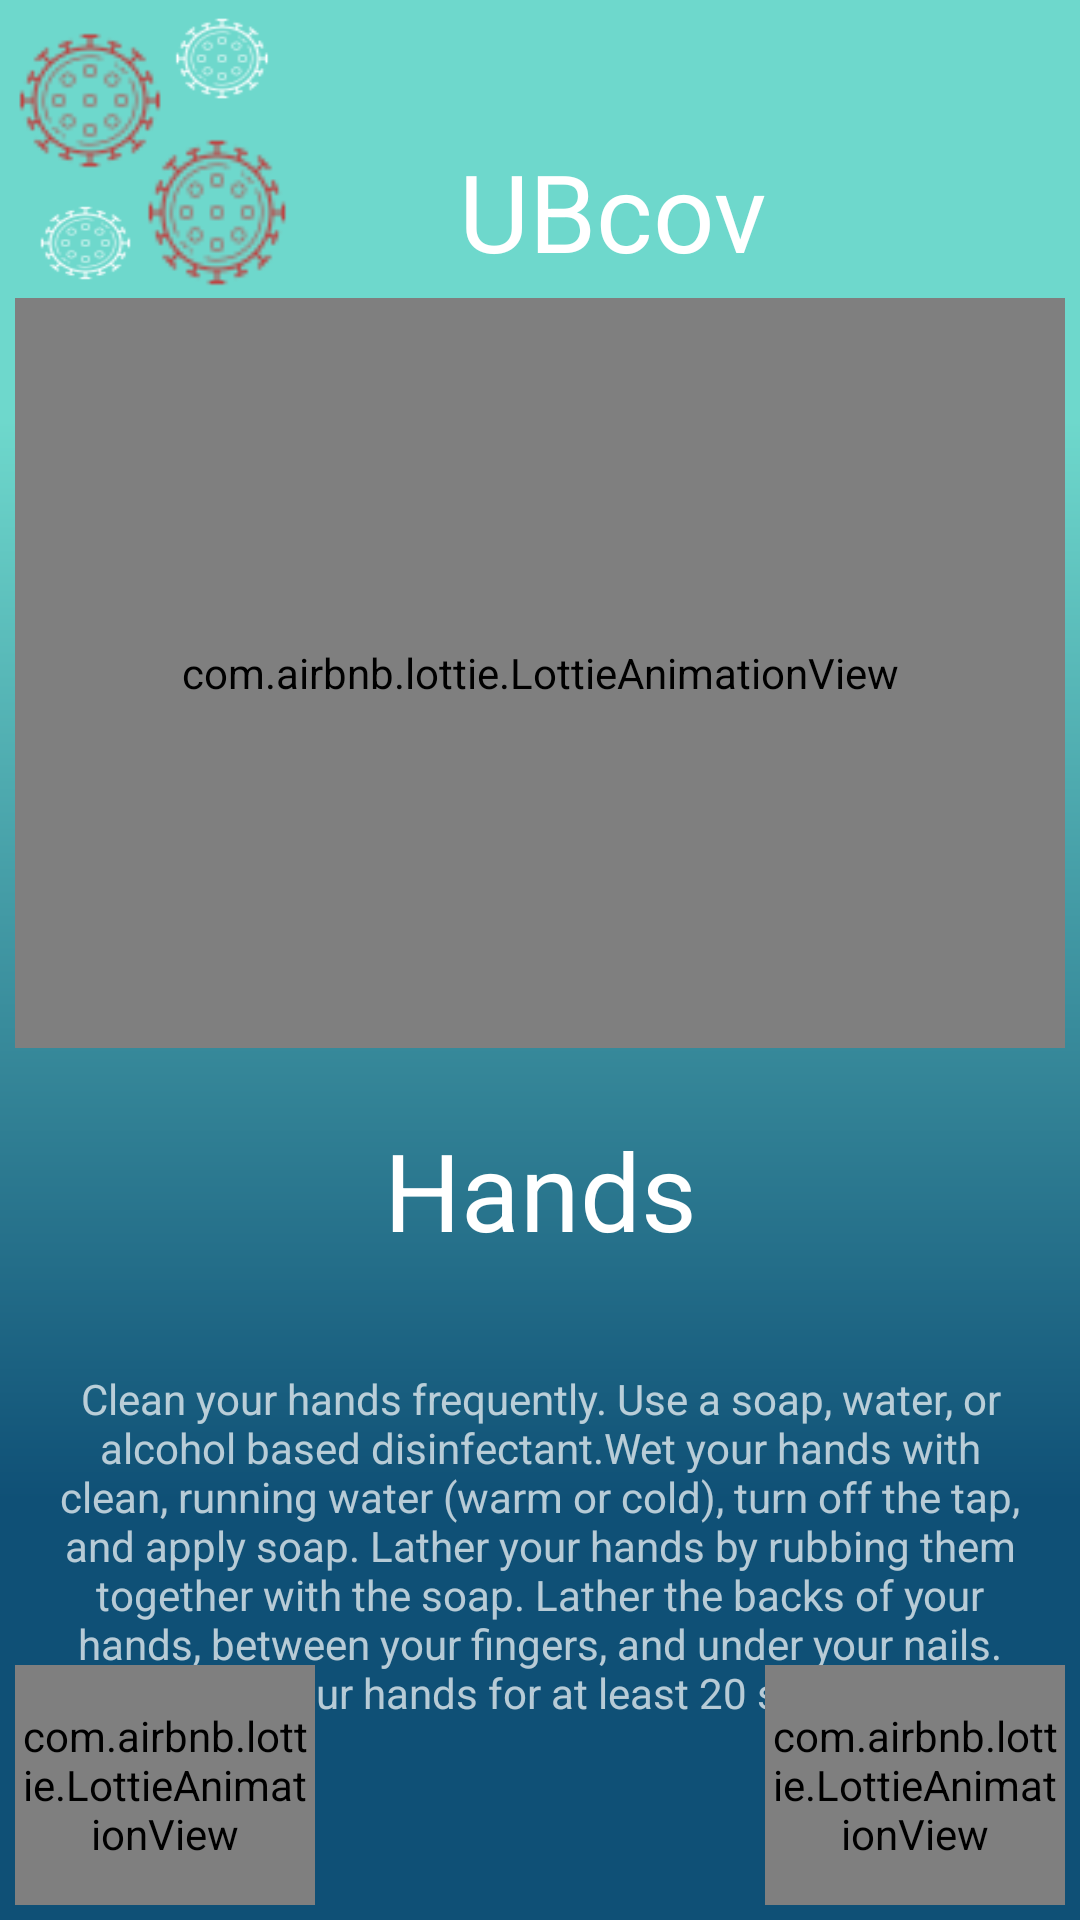

Screen size 1080*1920. Icon name, then its center in pixels as (x=x, y=y):
corona: (x=222, y=58), (x=90, y=100), (x=217, y=212), (x=85, y=243)
